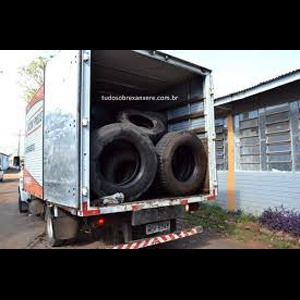tire: (85, 123, 158, 201), (154, 130, 207, 196), (116, 109, 164, 145)
